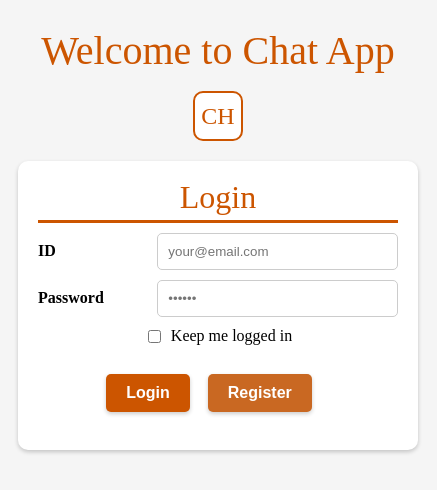
Test: Login Component › handleSubmitLogin sets password error message when clicking on login button with an invalid password
Type "user@email.com" into the field labelled "ID". click: point(278, 251)
box: [157, 232, 398, 270]
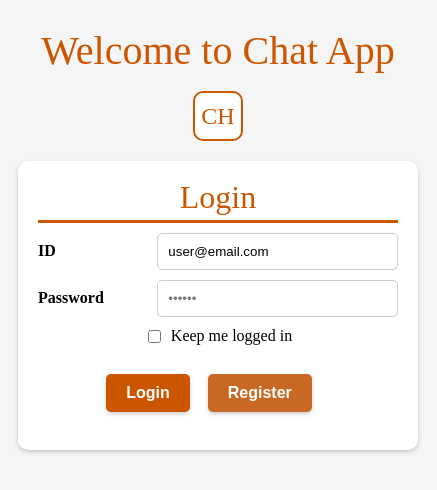
Type "b" into the password field labelled "Password". click: point(278, 298)
box: [157, 280, 398, 316]
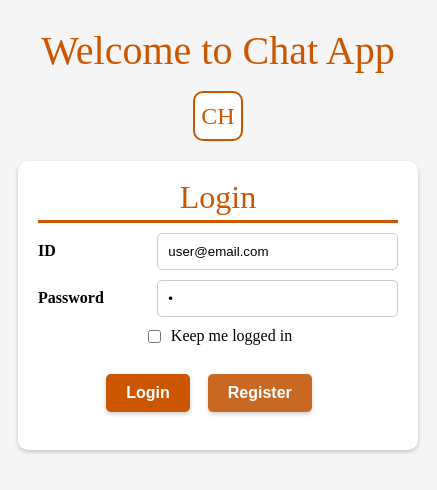
Click the button "Login". click: point(148, 392)
box: [106, 374, 190, 412]
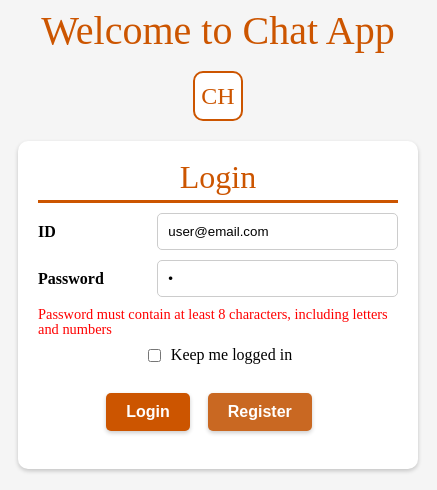
Expected: the text "Password must contain at least 8 characters, including letters and numbers" is shown, [38, 307, 398, 336]
